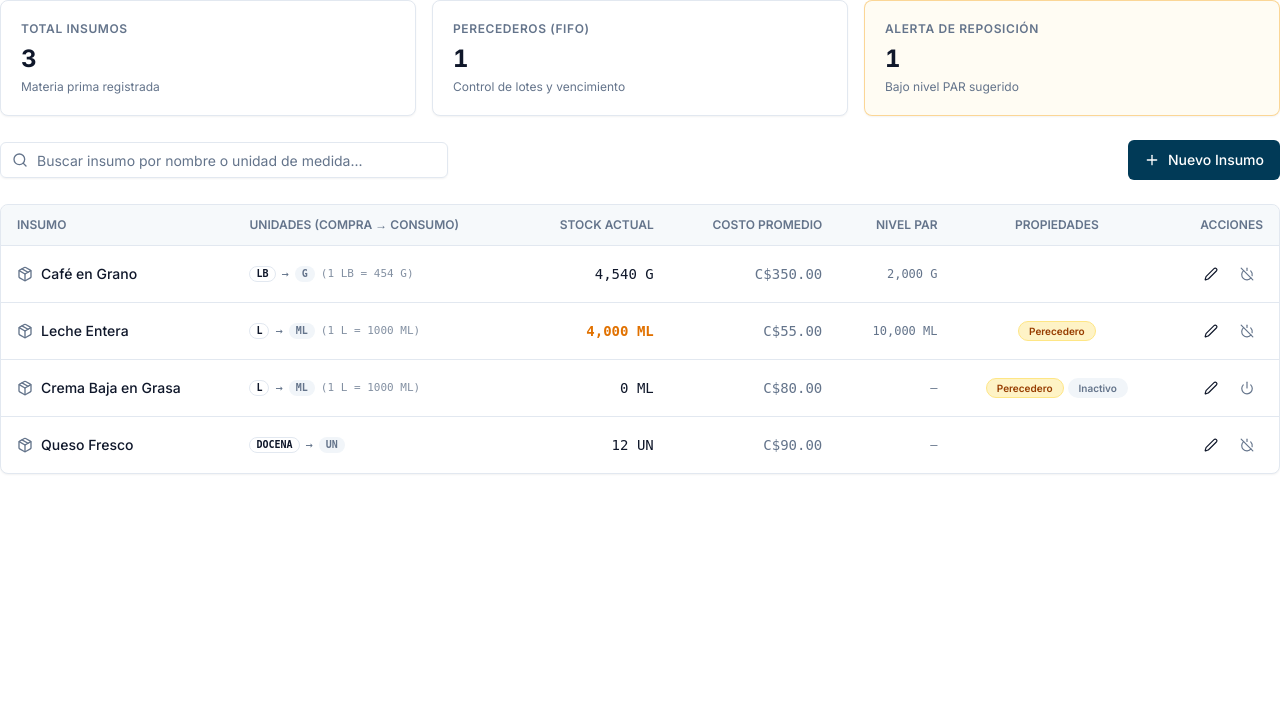
Test case: InsumosTab › blocks submission when a UoM is blank, with actionable copy (§17.3/§18.2)
Expected: the text "Café en Grano" is shown, 41,264 -> 137,284
Click the button with test id "add-insumo-btn". click: (1204,160)
box: 1128,140 -> 1279,180
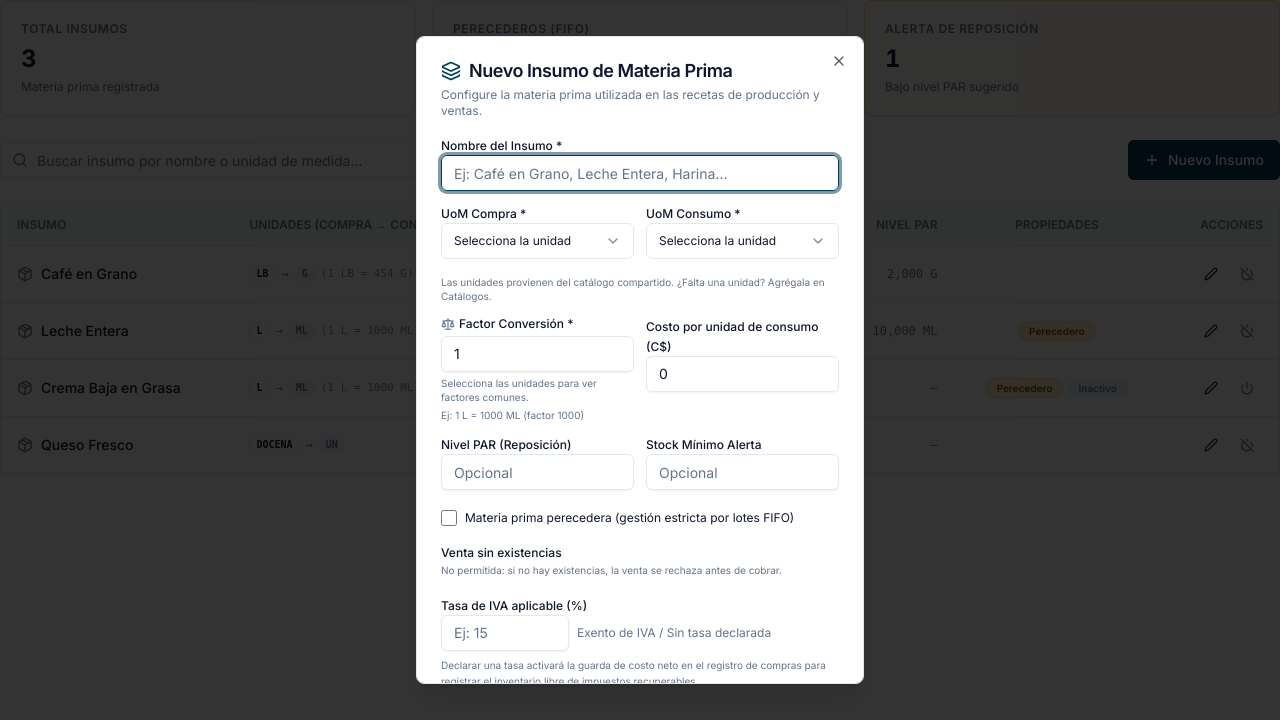
Type "Canela" into the field with test id "insumo-form-name". click: (640,173)
box: 441,155 -> 839,191
(page scrolled)
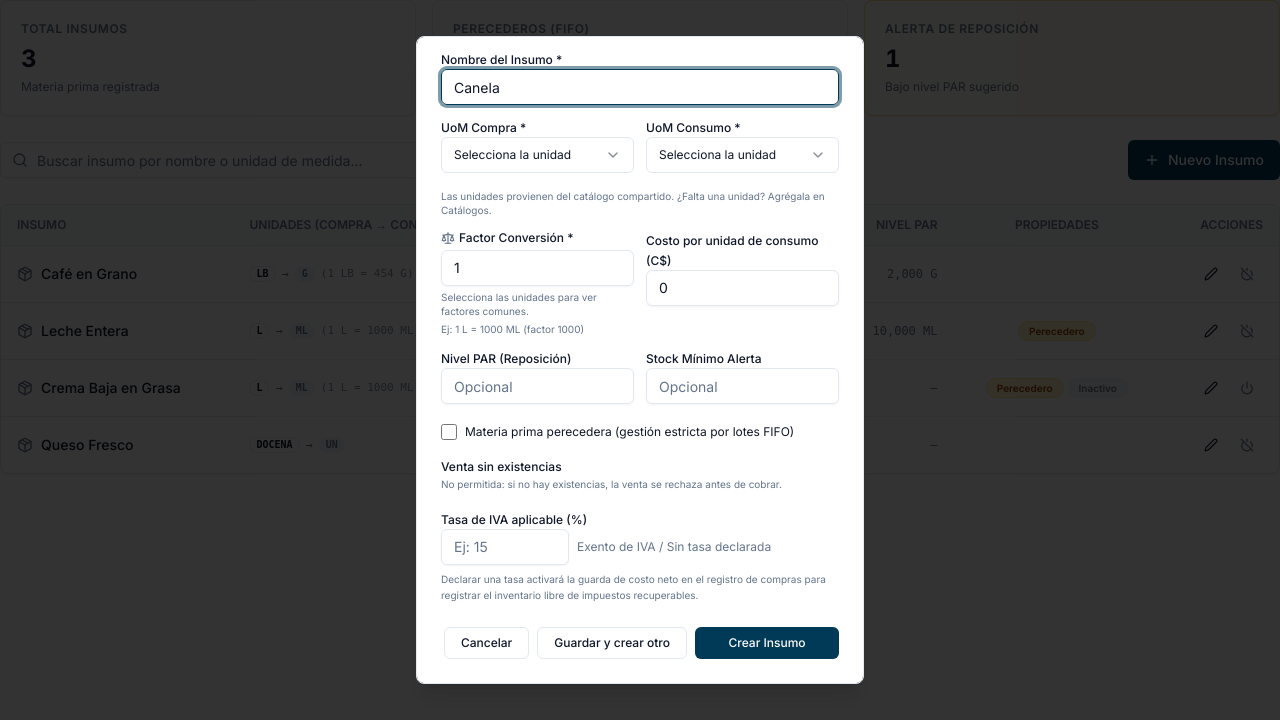
Click the button with test id "insumo-form-submit". click: (767,643)
box: 695,627 -> 839,659
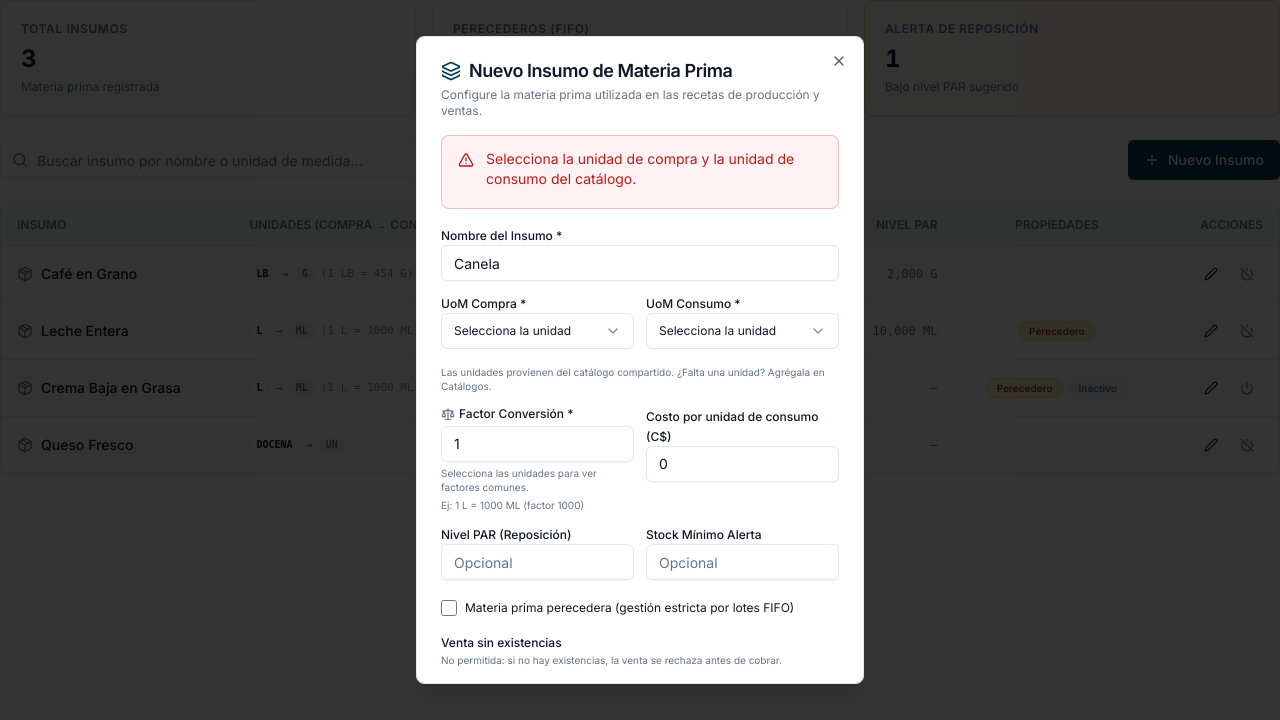
Expected: the message shows "Selecciona la unidad de compra y la unidad de consumo", 486,150 -> 794,187
